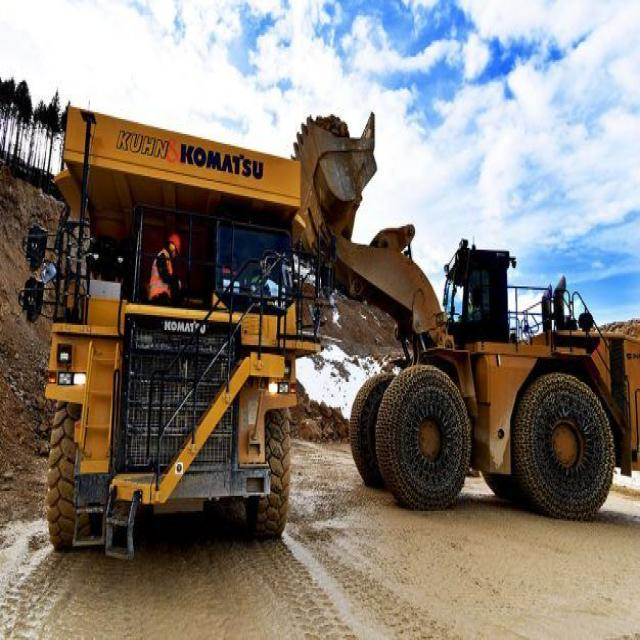buldozerpayloadergrader: (302, 104, 640, 517)
dump_truck: (48, 100, 318, 558)
